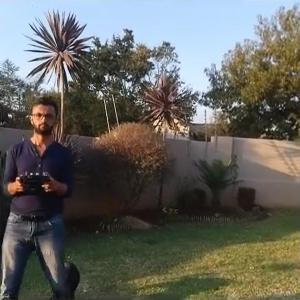follow: (0, 92, 83, 298)
